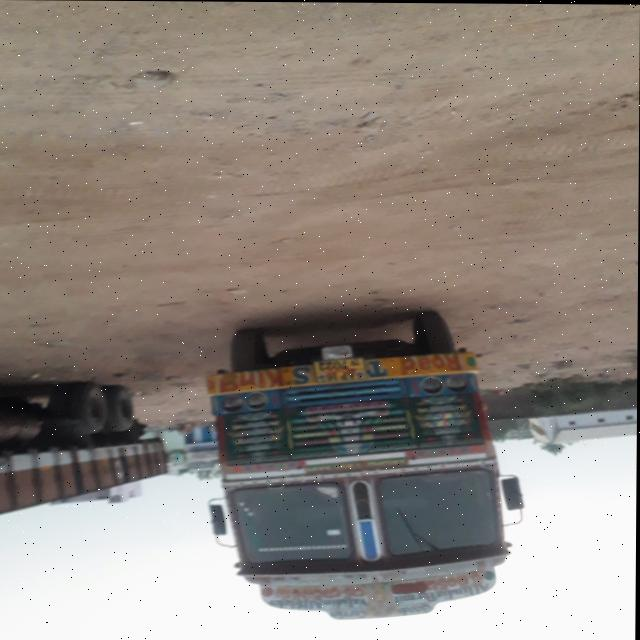plate: (315, 356, 367, 384)
